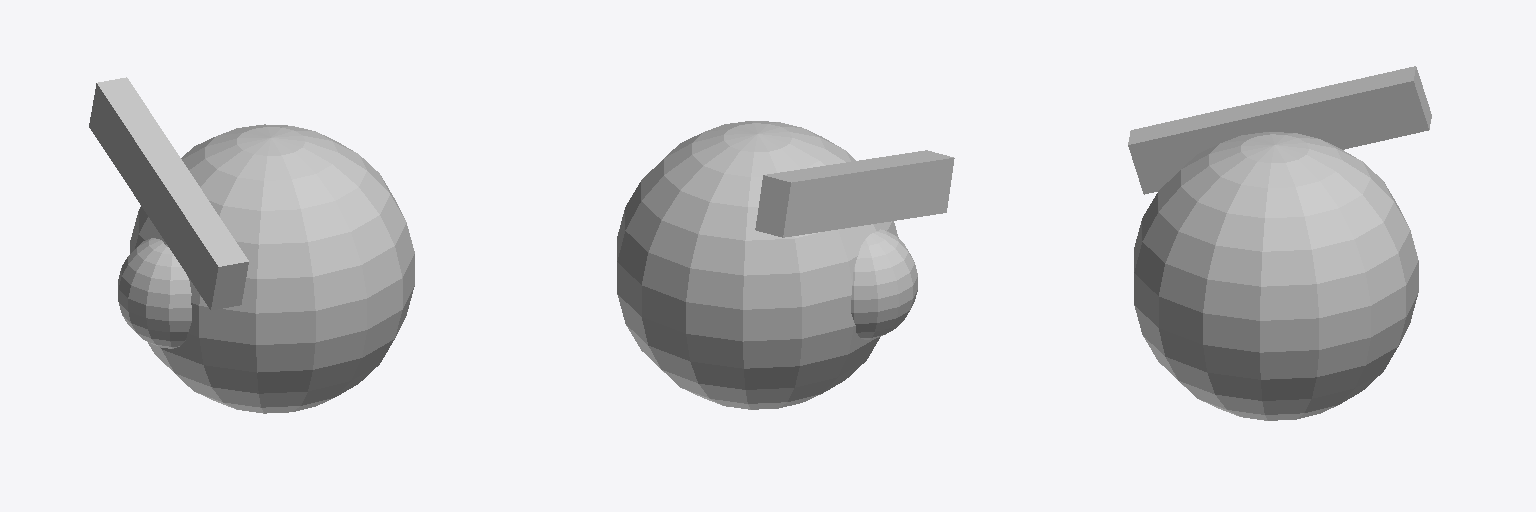
File: EyeBall.obj
The picture shows the model from 3 angles: view 1: azimuth 30°, elevation 25°; view 2: azimuth 150°, elevation 25°; view 3: azimuth 270°, elevation 25°; orthographic projection.
Parts seen in each view (by area): view 1: Sphere, Cube_Cube.001, Sphere.001; view 2: Sphere, Cube_Cube.001, Sphere.001; view 3: Sphere, Cube_Cube.001.
Boxes of the visible parts, <box> form: Sphere: <box>130,124,414,413</box>; Cube_Cube.001: <box>89,77,248,310</box>; Sphere.001: <box>118,238,191,348</box>; Sphere: <box>617,121,898,409</box>; Cube_Cube.001: <box>755,150,954,237</box>; Sphere.001: <box>851,229,917,339</box>; Sphere: <box>1134,132,1418,420</box>; Cube_Cube.001: <box>1128,66,1431,194</box>.
Bounding box in the file's own units: 2.18 × 2.22 × 2.1.